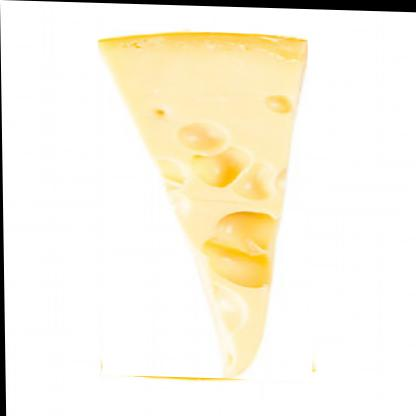cheese: (97, 28, 312, 381)
